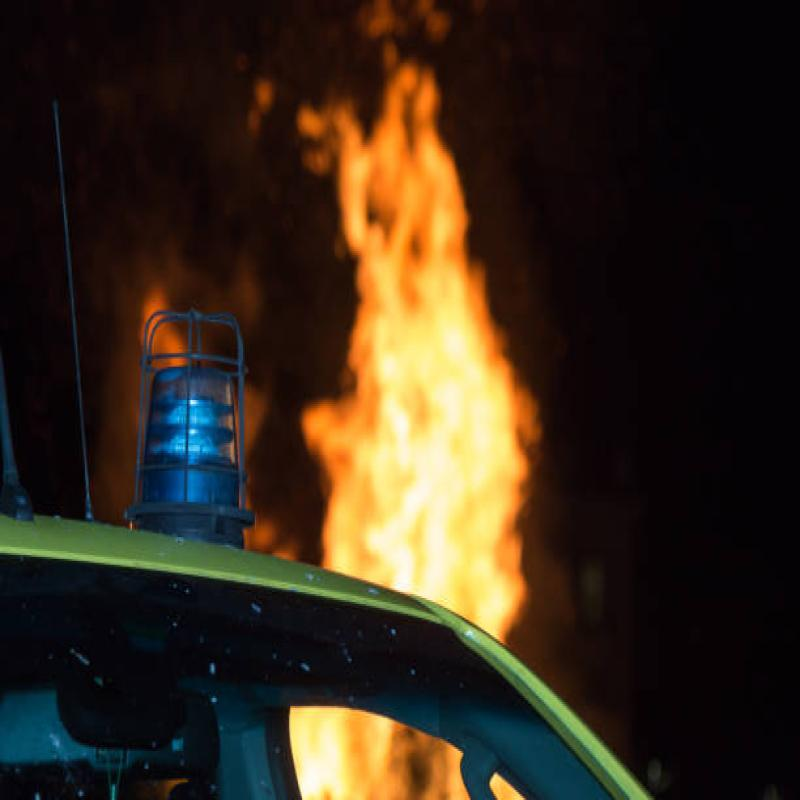AmbulanceSiren: (124, 304, 267, 562)
